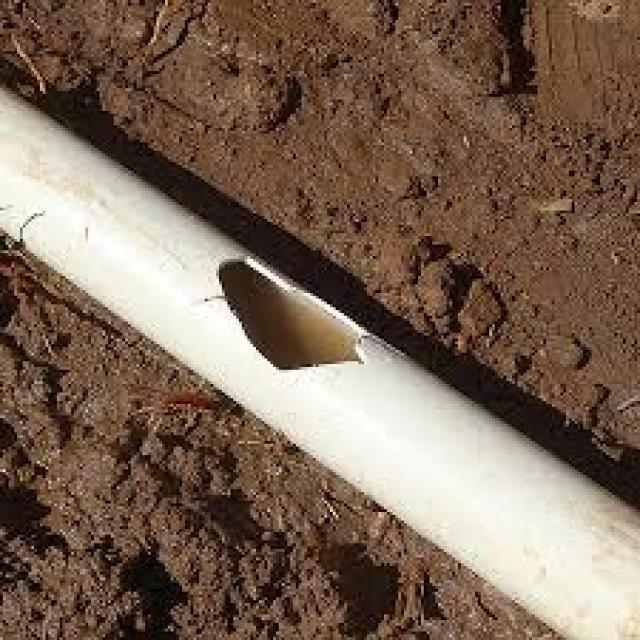hole: (214, 262, 381, 372)
